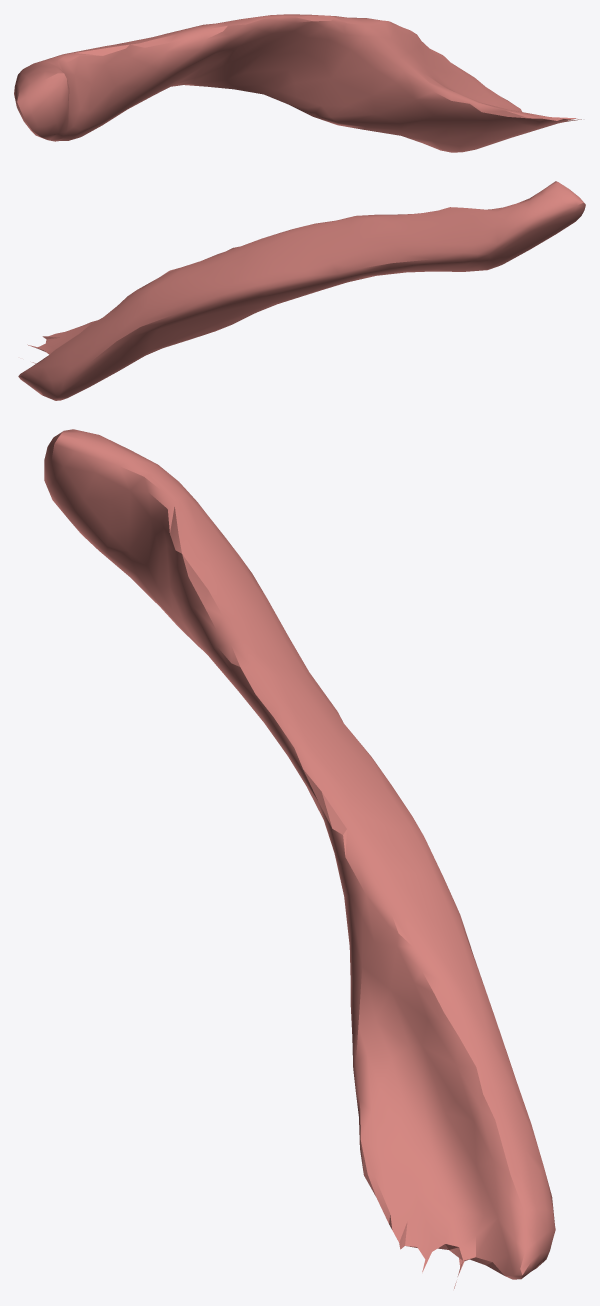
File: fma299411_mm1780.glb
The picture shows the model from 3 angles, top to bottom: view 1: azimuth 30°, elevation 25°; view 2: azimuth 150°, elevation 25°; view 3: azimuth 270°, elevation 25°; orthographic projection. The views are drawn at different scales.
Parts seen in each view (by area): view 1: FMA299411_MM1780; view 2: FMA299411_MM1780; view 3: FMA299411_MM1780.
Part boxes in pixels (<box>): FMA299411_MM1780: <box>14,14,581,152</box>; FMA299411_MM1780: <box>18,181,585,400</box>; FMA299411_MM1780: <box>44,429,555,1288</box>.
Size of the model in its own units: 0.0823 by 0.0377 by 0.0386.
